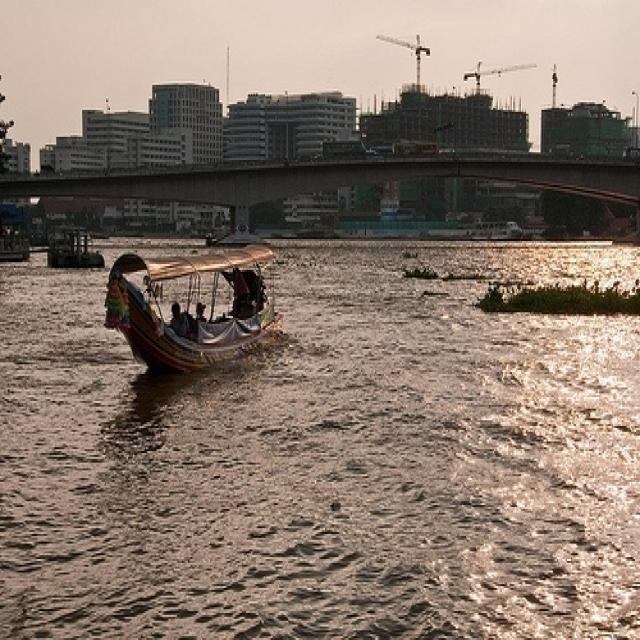boat: (106, 236, 283, 372), (339, 210, 525, 244), (474, 285, 640, 318), (48, 215, 104, 282), (204, 225, 275, 245)
